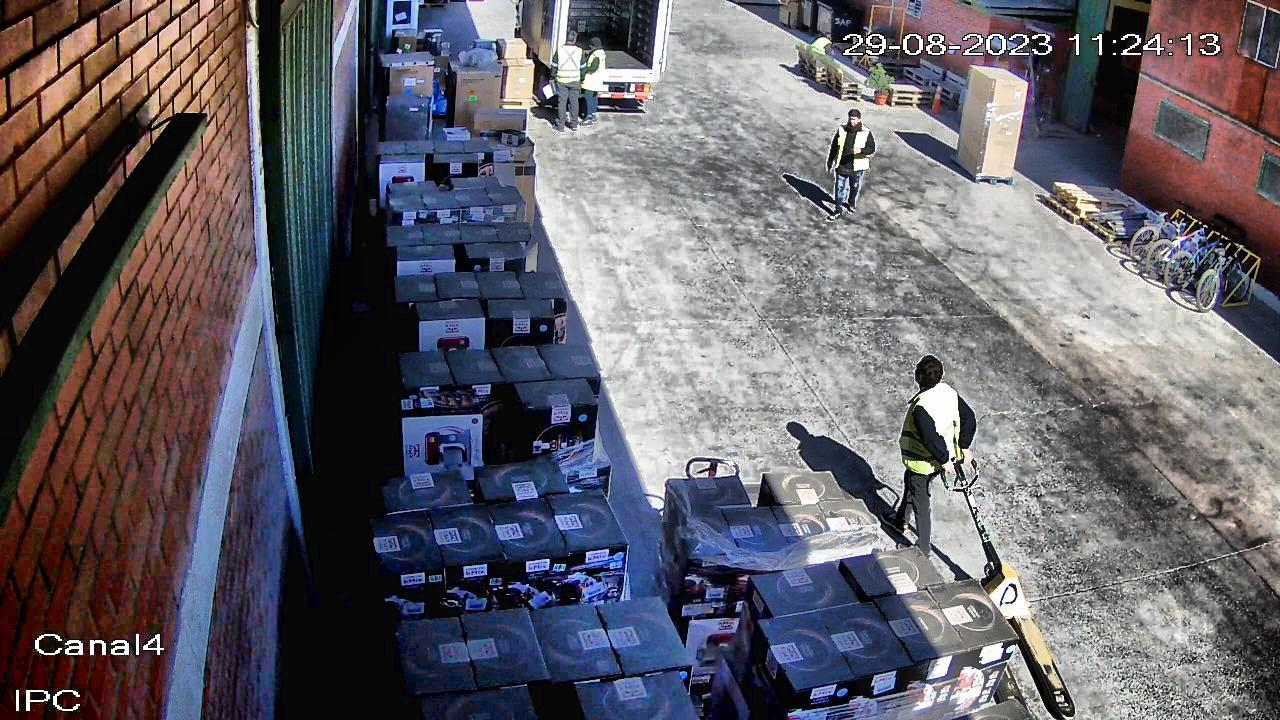con-chaleco: (895, 376, 970, 479), (831, 121, 875, 173), (581, 48, 611, 94), (555, 43, 582, 85), (809, 36, 833, 59)
persona: (868, 336, 998, 576), (819, 106, 883, 227), (543, 28, 588, 135), (576, 34, 612, 131), (806, 29, 838, 75)
sin-casco: (904, 352, 960, 389), (845, 108, 867, 129), (560, 30, 581, 48), (586, 35, 609, 51), (823, 30, 836, 42)
